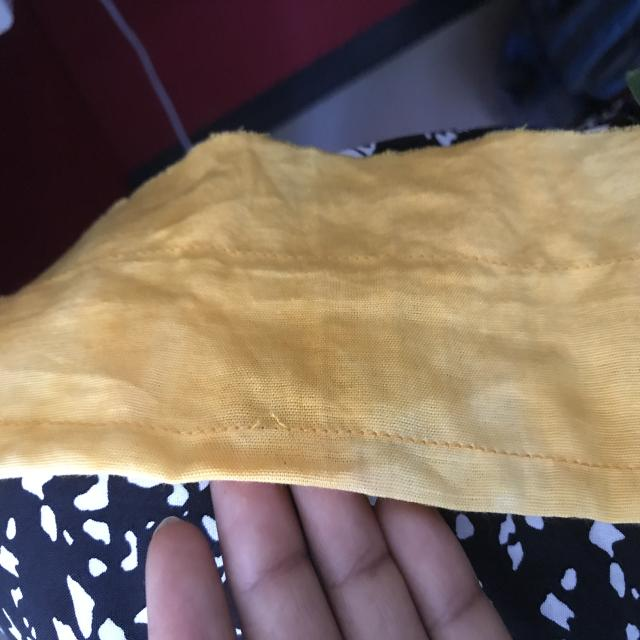broken: (246, 401, 300, 441)
